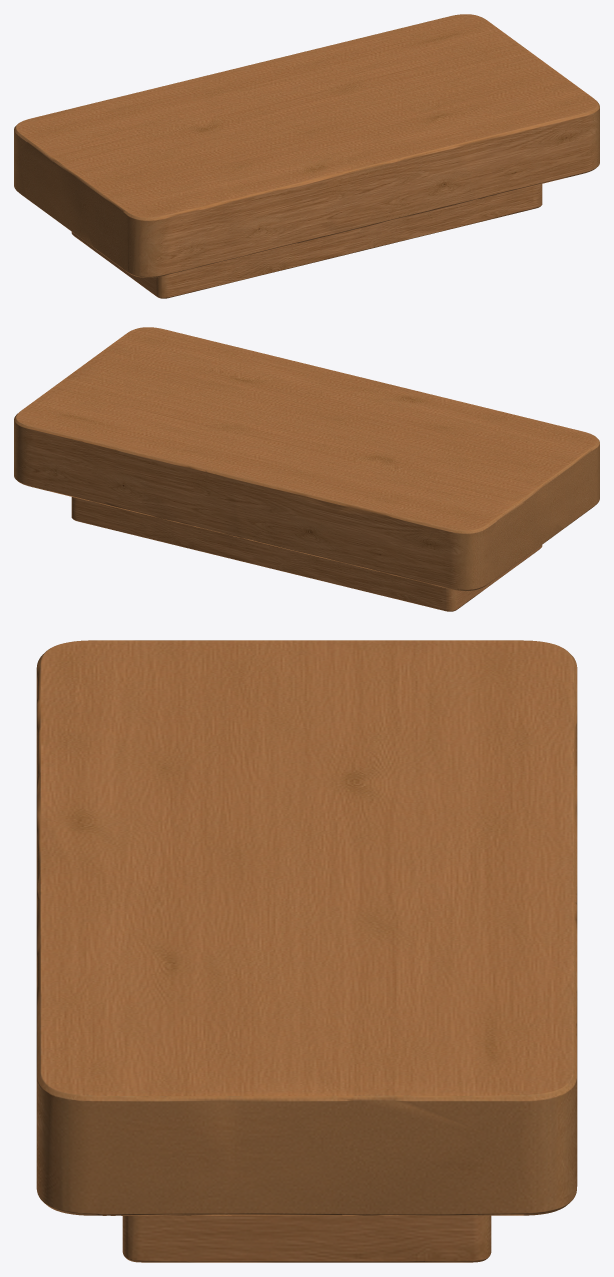
Rendered from terra_coffee_table.glb.
3 views of the same model, one above another, from view 1: azimuth 30°, elevation 25°; view 2: azimuth 150°, elevation 25°; view 3: azimuth 270°, elevation 25° (orthographic). The views are drawn at different scales.
Size of the model in its own units: 1.9 by 0.4033 by 0.9469.
Materials: 1 (1 with a texture image).
